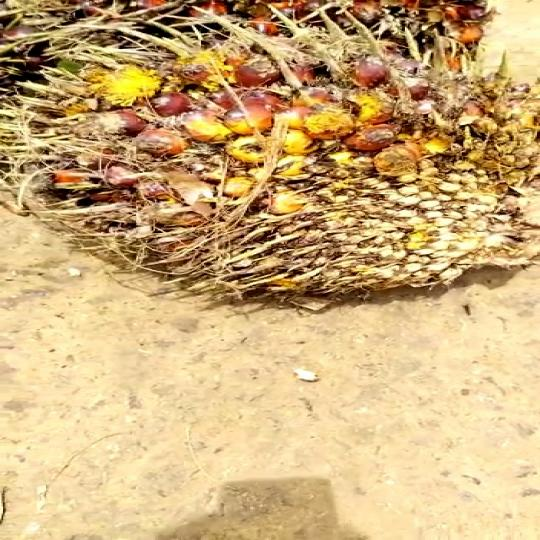masak: (0, 0, 540, 323)
